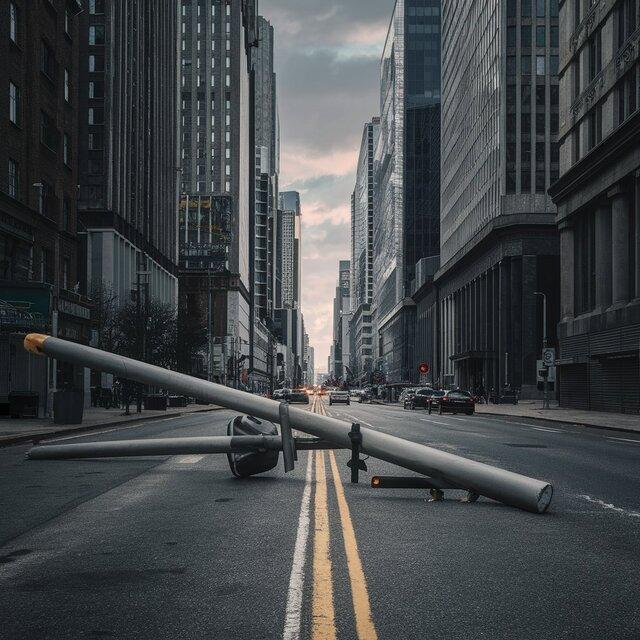Inclined Pole: (17, 324, 567, 526)
